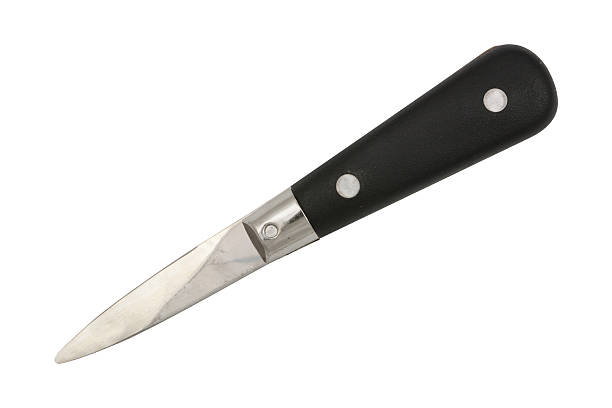knife: (51, 42, 560, 366)
